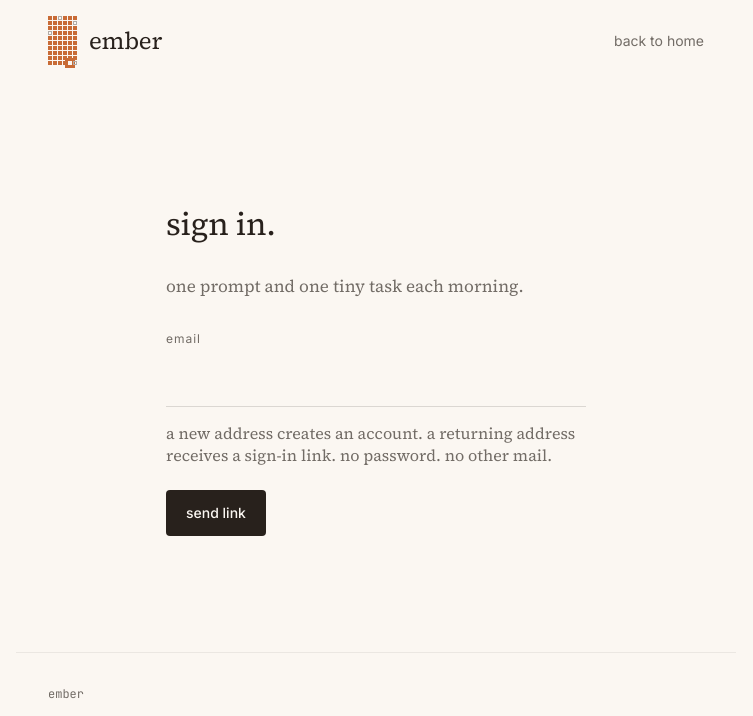
SigninPage — sending state › shows "sending" and disables submit while request is in flight
In the field labelled "email": (376, 382) [166,357,586,407], type "user@example.com"
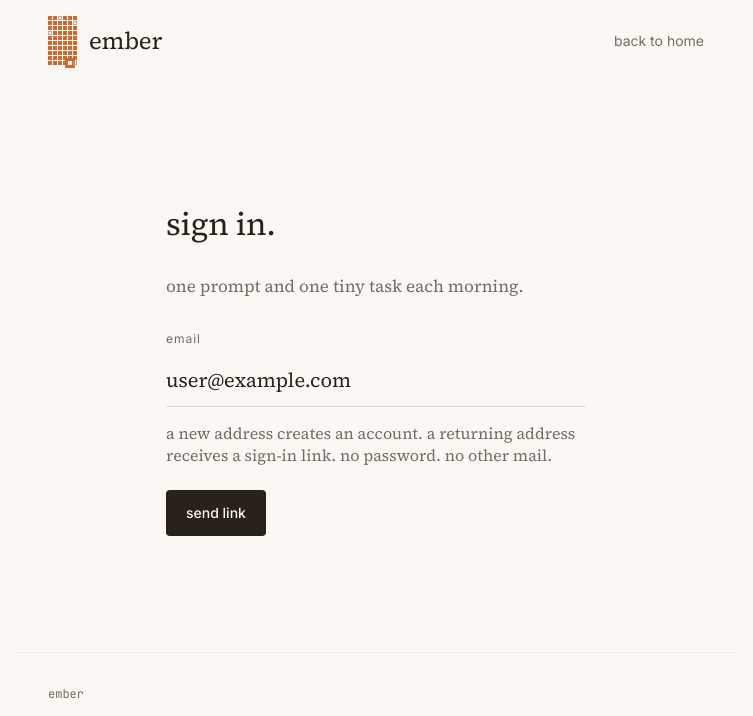
Submit the form, box [166,330,586,536]
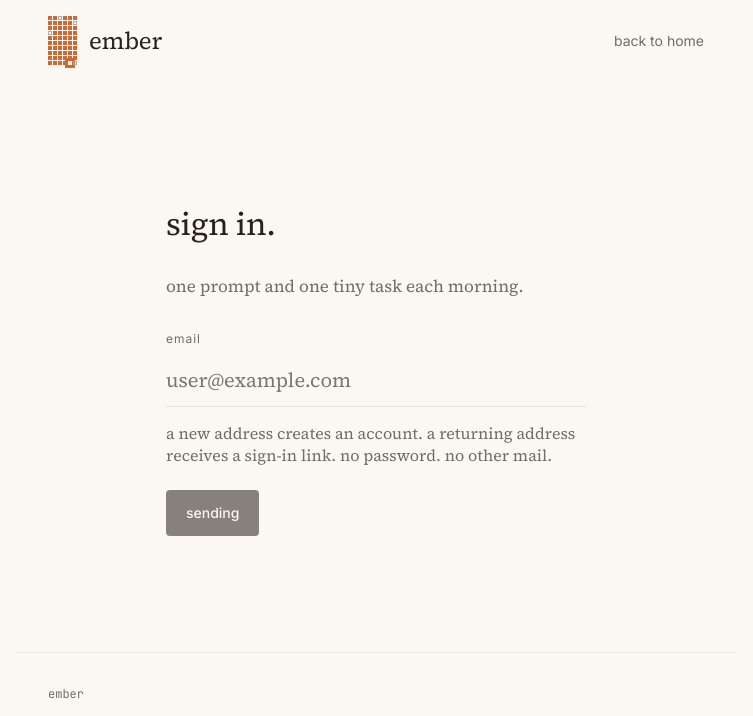
Expected: the button "sending" is disabled, [166,490,260,536]
